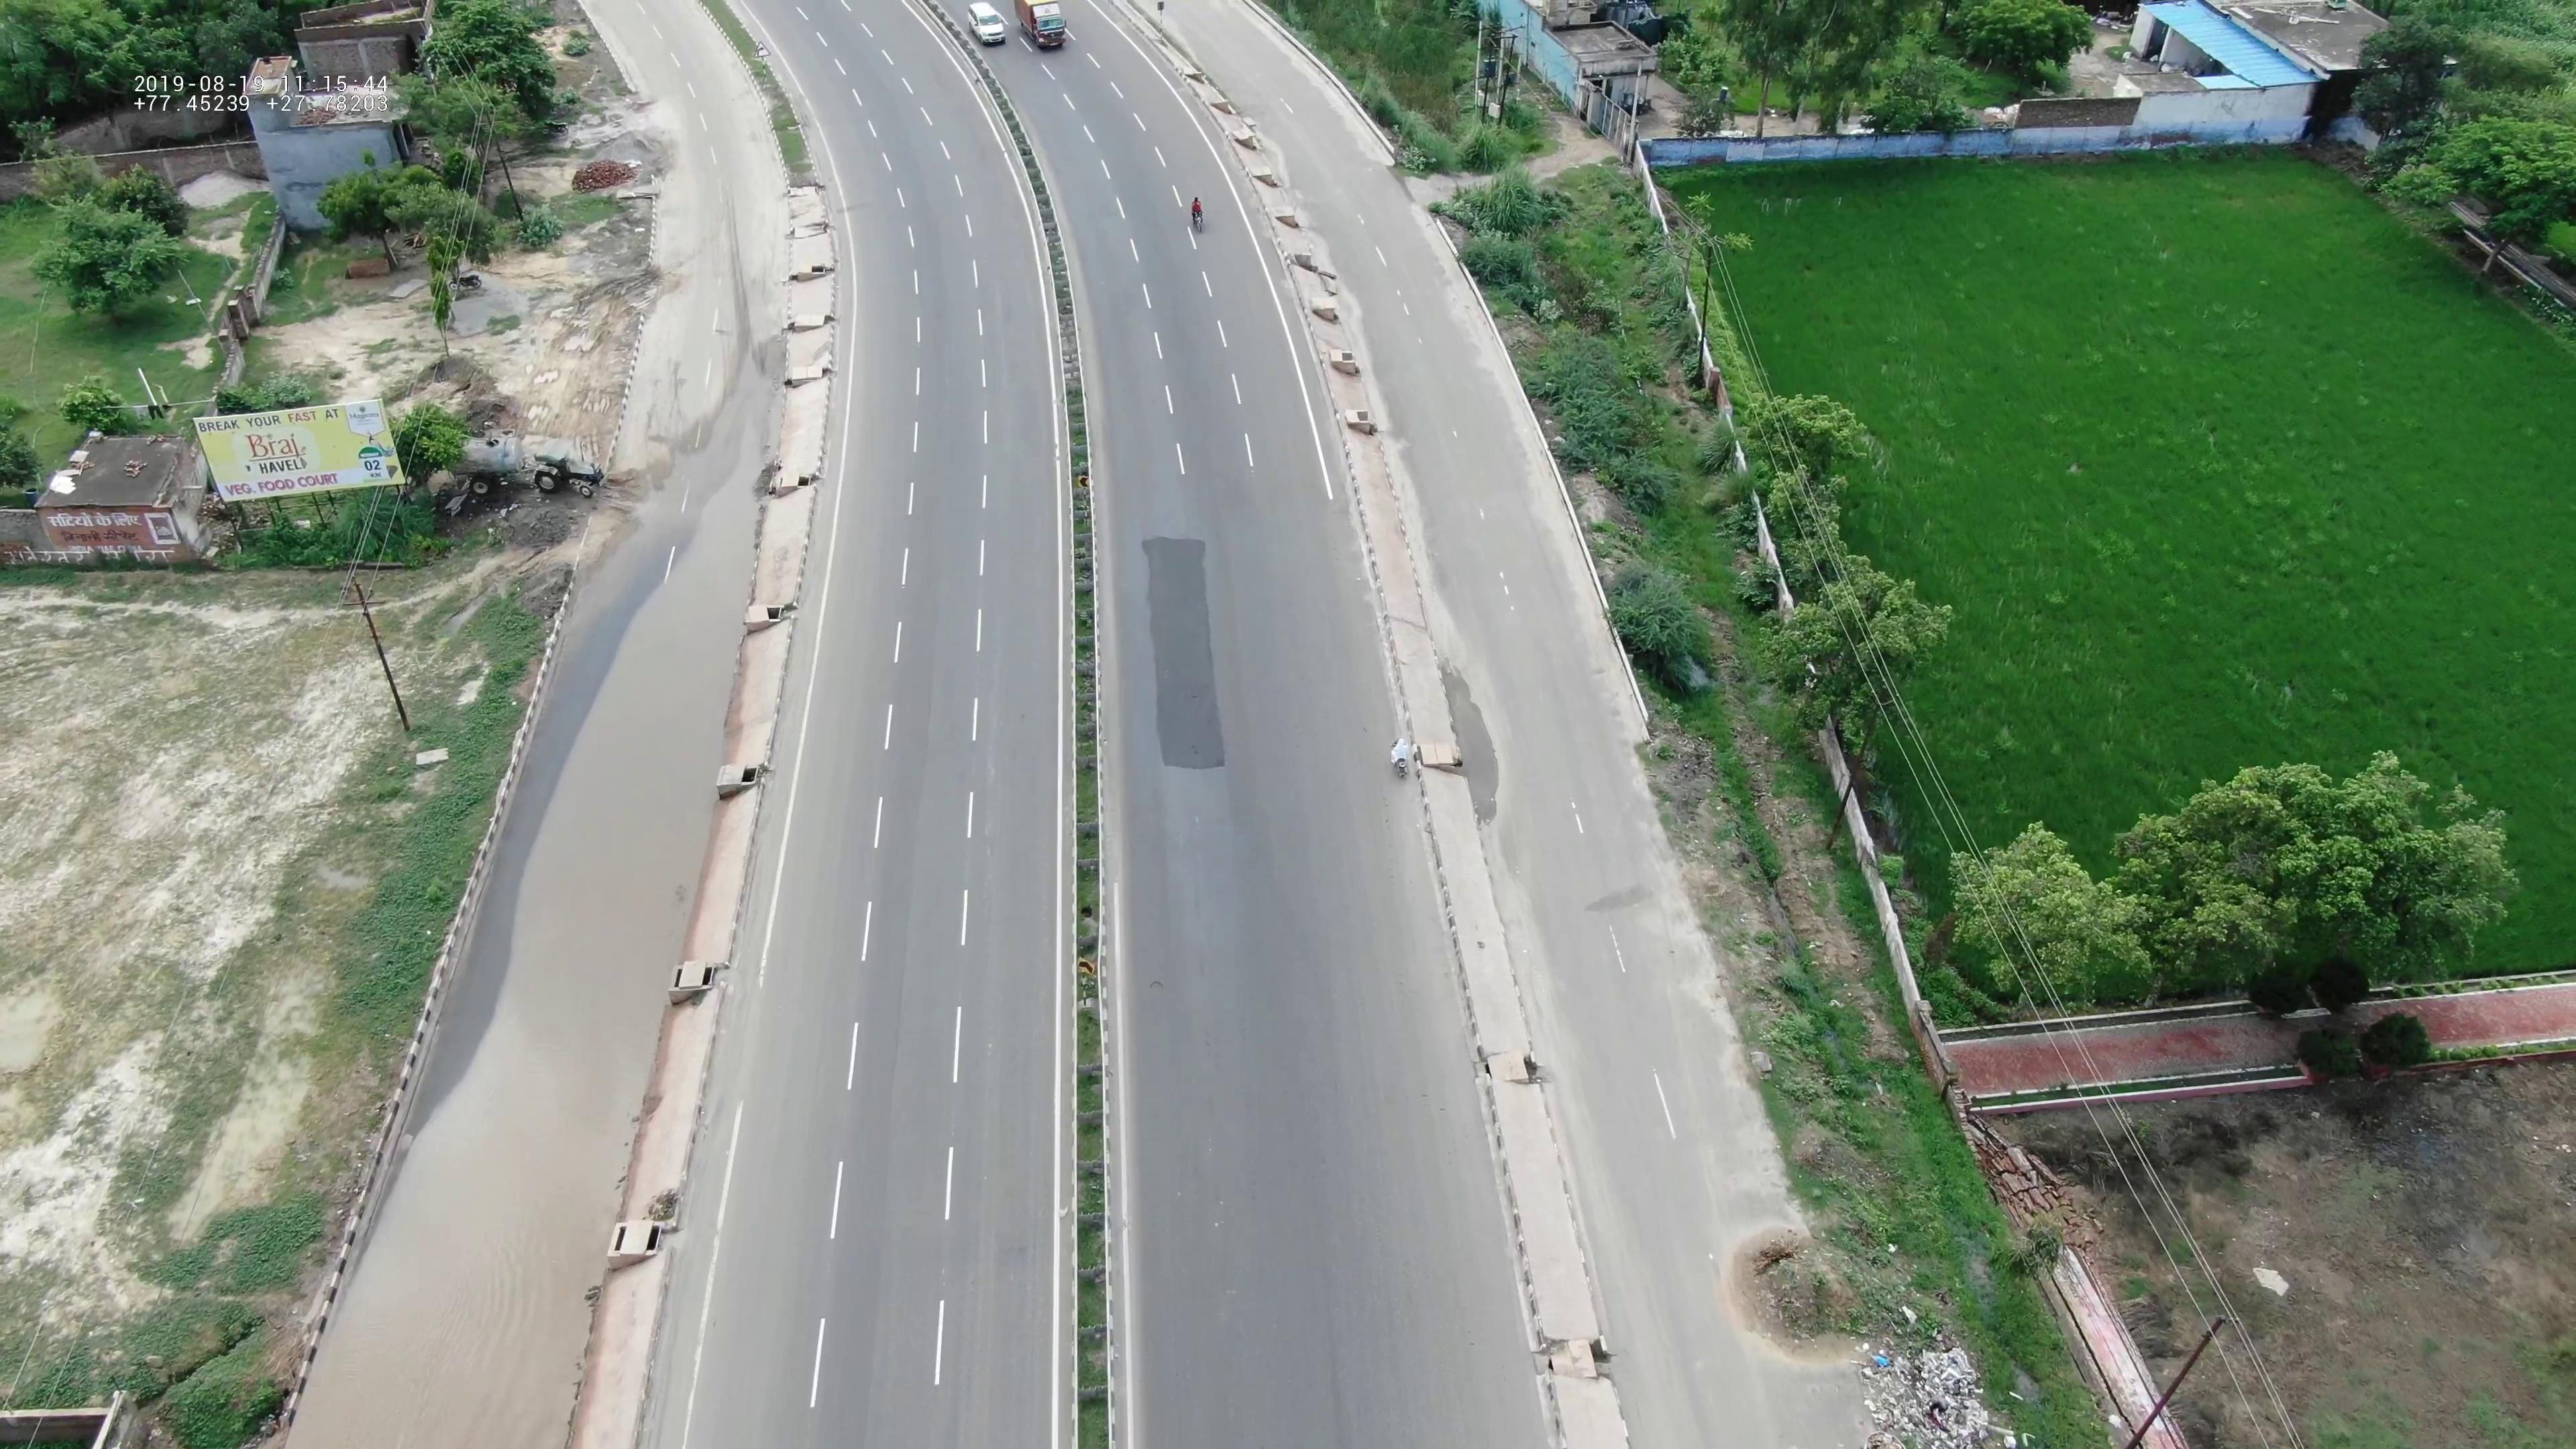Waterlogging: (356, 844, 665, 1431), (593, 453, 743, 851)
